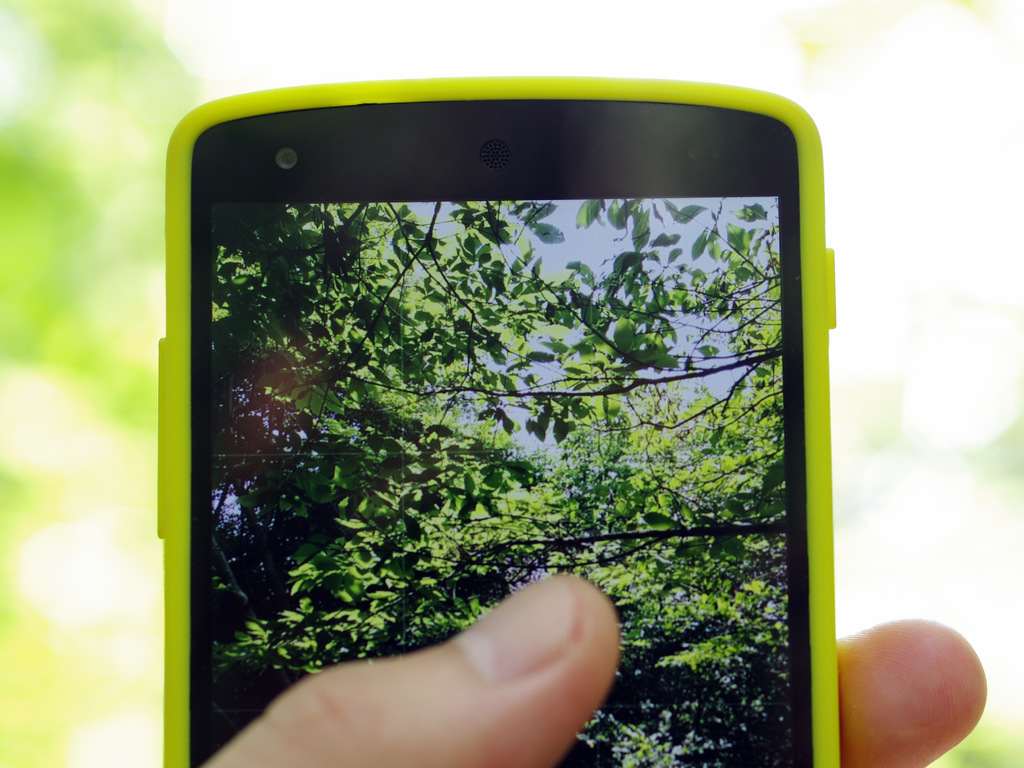Mobile-phone: (165, 63, 844, 756)
